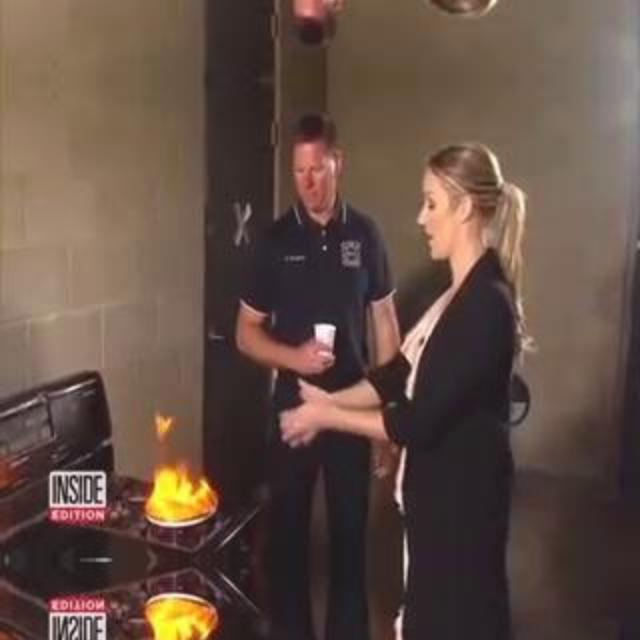smoke: (147, 435, 223, 529), (147, 591, 223, 640)
